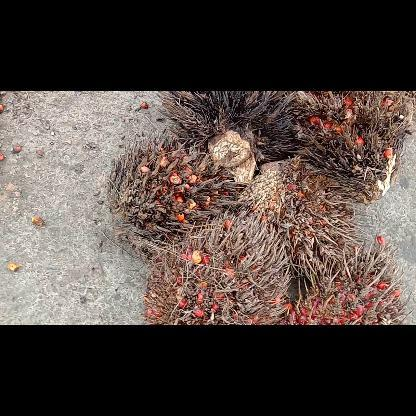Terlalu masak: (107, 127, 245, 259), (141, 206, 291, 324), (236, 156, 372, 282), (289, 91, 415, 204), (156, 90, 296, 180), (288, 242, 414, 324)
